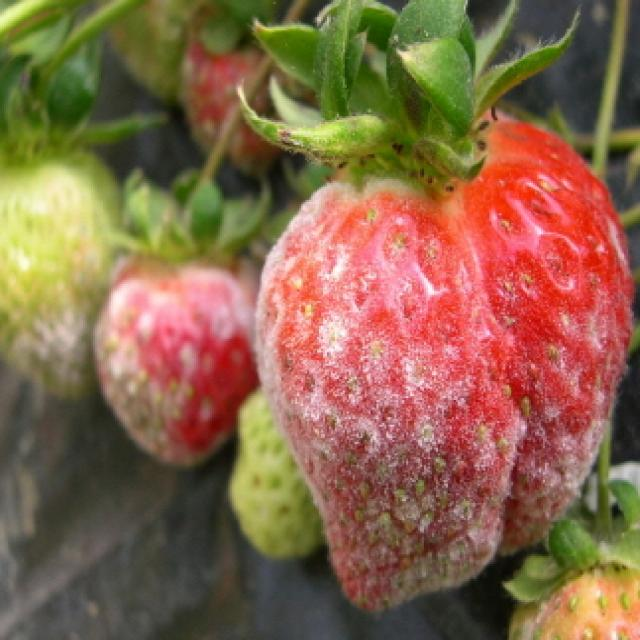Powdery Mildew Fruit: (241, 96, 637, 616), (90, 254, 260, 469), (0, 143, 128, 398), (178, 0, 333, 176), (507, 520, 640, 640)
